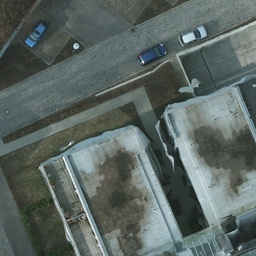car: (24, 20, 48, 49), (137, 43, 169, 64), (180, 25, 207, 41)
